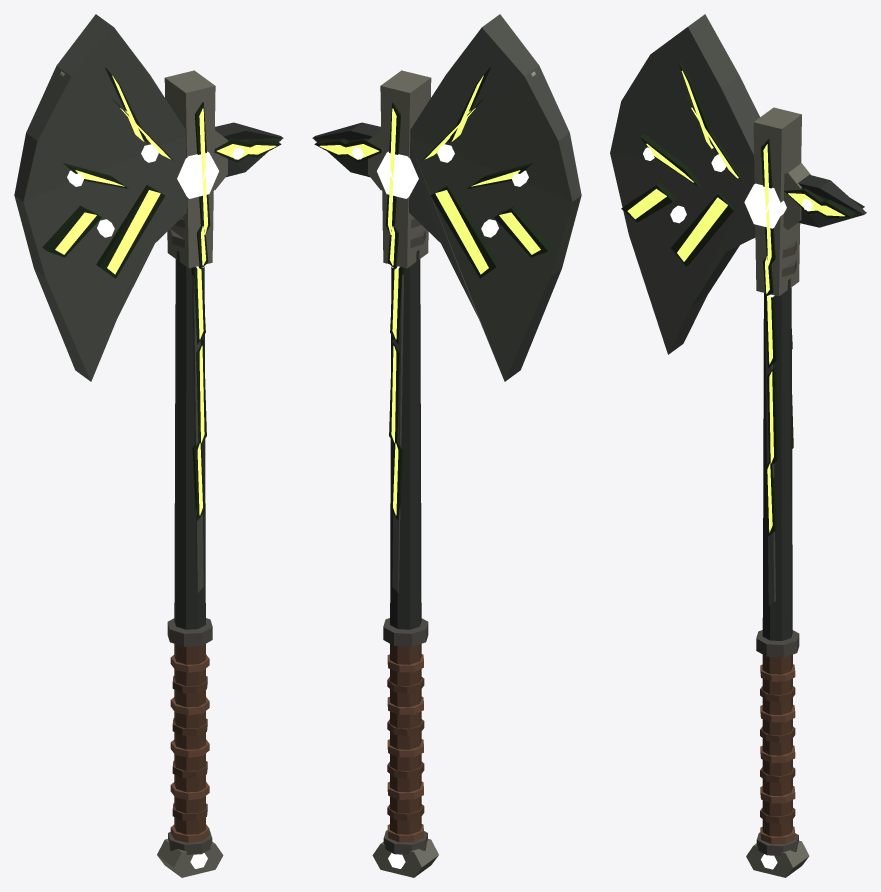
The model's file is Rotcleaver.fbx.
3 renders of one model, left to right at view 1: azimuth 30°, elevation 25°; view 2: azimuth 150°, elevation 25°; view 3: azimuth 330°, elevation 25°, orthographic. The views are drawn at different scales.
Parts seen in each view (by area): view 1: Main_Blade_Body, Main_Haft, Head_Sleeve, Grip_Core, Blade_Branch_02_Crack, Blight_Core, Haft_Ridge, Pommel_Stone, Rear_Spike_Body, Blade_Branch_02_Glow, Grip_Upper_Collar, Blade_Branch_04_Crack (+4 smaller); view 2: Main_Blade_Body, Main_Haft, Head_Sleeve, Grip_Core, Blade_Branch_02_Crack, Blight_Core, Haft_Ridge, Pommel_Stone, Rear_Spike_Body, Blade_Branch_02_Glow, Grip_Upper_Collar, Blade_Branch_04_Crack (+4 smaller); view 3: Main_Blade_Body, Main_Haft, Head_Sleeve, Grip_Core, Rear_Spike_Body, Blight_Core, Pommel_Stone, Blade_Branch_02_Crack, Rear_Spike_Base, Haft_Ridge, Blade_Branch_02_Glow, Haft_Branch_02_Crack (+5 smaller).
Boxes of the visible parts, <box> form: Main_Blade_Body: <box>14,14,186,381</box>; Main_Haft: <box>174,250,205,629</box>; Head_Sleeve: <box>164,70,215,268</box>; Grip_Core: <box>174,644,205,834</box>; Blade_Branch_02_Crack: <box>96,185,164,278</box>; Blight_Core: <box>177,151,218,198</box>; Haft_Ridge: <box>192,274,203,593</box>; Pommel_Stone: <box>157,839,223,877</box>; Rear_Spike_Body: <box>215,122,283,177</box>; Blade_Branch_02_Glow: <box>107,190,160,274</box>; Grip_Upper_Collar: <box>167,618,212,646</box>; Blade_Branch_04_Crack: <box>42,205,101,257</box>; Main_Blade_Body: <box>409,14,581,381</box>; Main_Haft: <box>390,250,421,629</box>; Head_Sleeve: <box>380,70,431,268</box>; Grip_Core: <box>390,644,421,834</box>; Blade_Branch_02_Crack: <box>431,185,499,278</box>; Blight_Core: <box>377,151,418,198</box>; Haft_Ridge: <box>392,274,403,593</box>; Pommel_Stone: <box>372,839,438,877</box>; Rear_Spike_Body: <box>312,122,380,177</box>; Blade_Branch_02_Glow: <box>435,190,488,274</box>; Grip_Upper_Collar: <box>383,618,428,646</box>; Blade_Branch_04_Crack: <box>494,205,553,257</box>; Main_Blade_Body: <box>610,14,759,354</box>; Main_Haft: <box>762,278,792,640</box>; Head_Sleeve: <box>753,107,801,296</box>; Grip_Core: <box>762,654,792,836</box>; Rear_Spike_Body: <box>798,175,866,227</box>; Blight_Core: <box>744,183,786,228</box>; Pommel_Stone: <box>746,840,809,877</box>; Blade_Branch_02_Crack: <box>671,192,734,266</box>; Rear_Spike_Base: <box>783,163,810,229</box>; Haft_Ridge: <box>765,316,775,605</box>; Blade_Branch_02_Glow: <box>677,197,727,261</box>; Haft_Branch_02_Crack: <box>767,366,793,465</box>.
Bounding box in the file's own units: 53.2 × 167 × 8.8.
